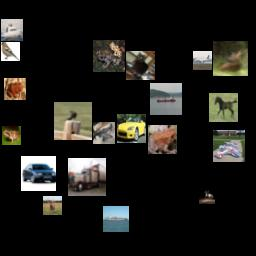airplane: (213, 130, 245, 162), (93, 122, 115, 144), (193, 51, 212, 70)
automobile: (21, 156, 56, 191), (117, 114, 146, 143)
bird: (54, 102, 92, 140), (1, 42, 20, 61)
cat: (126, 51, 155, 80)
deer: (213, 41, 248, 76), (43, 196, 62, 215)
frog: (93, 40, 125, 72), (148, 125, 177, 154), (4, 78, 26, 100), (2, 126, 21, 145)
ship: (150, 83, 182, 115), (103, 206, 129, 232), (1, 19, 23, 41)
truck: (68, 158, 106, 196)
